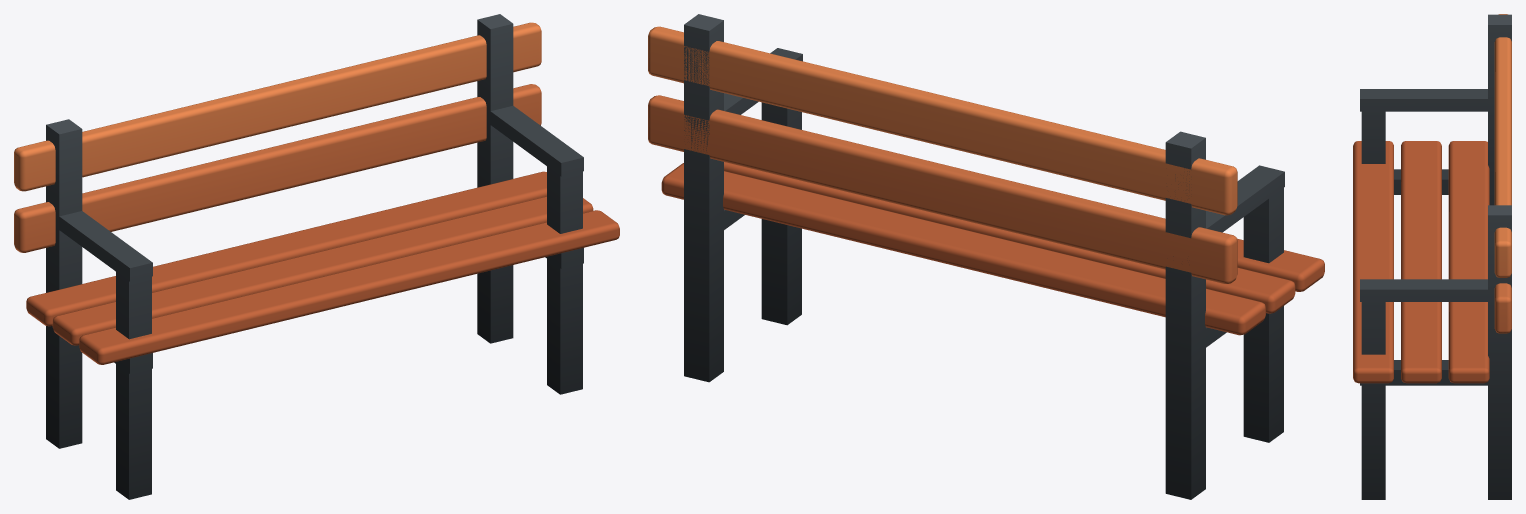
File: banco.glb
3 views of the same model, side by side, from view 1: azimuth 30°, elevation 25°; view 2: azimuth 150°, elevation 25°; view 3: azimuth 270°, elevation 25° (orthographic). The views are drawn at different scales.
Parts seen in each view (by area): view 1: banco; view 2: banco; view 3: banco.
Boxes of the visible parts, left/top/right/bottom form: banco: left=14, top=14, right=619, bottom=499; banco: left=648, top=14, right=1324, bottom=499; banco: left=1353, top=14, right=1511, bottom=499.
Size of the model in its own units: 1.6 by 0.92 by 0.465.
Materials: 1 (1 with a texture image).
